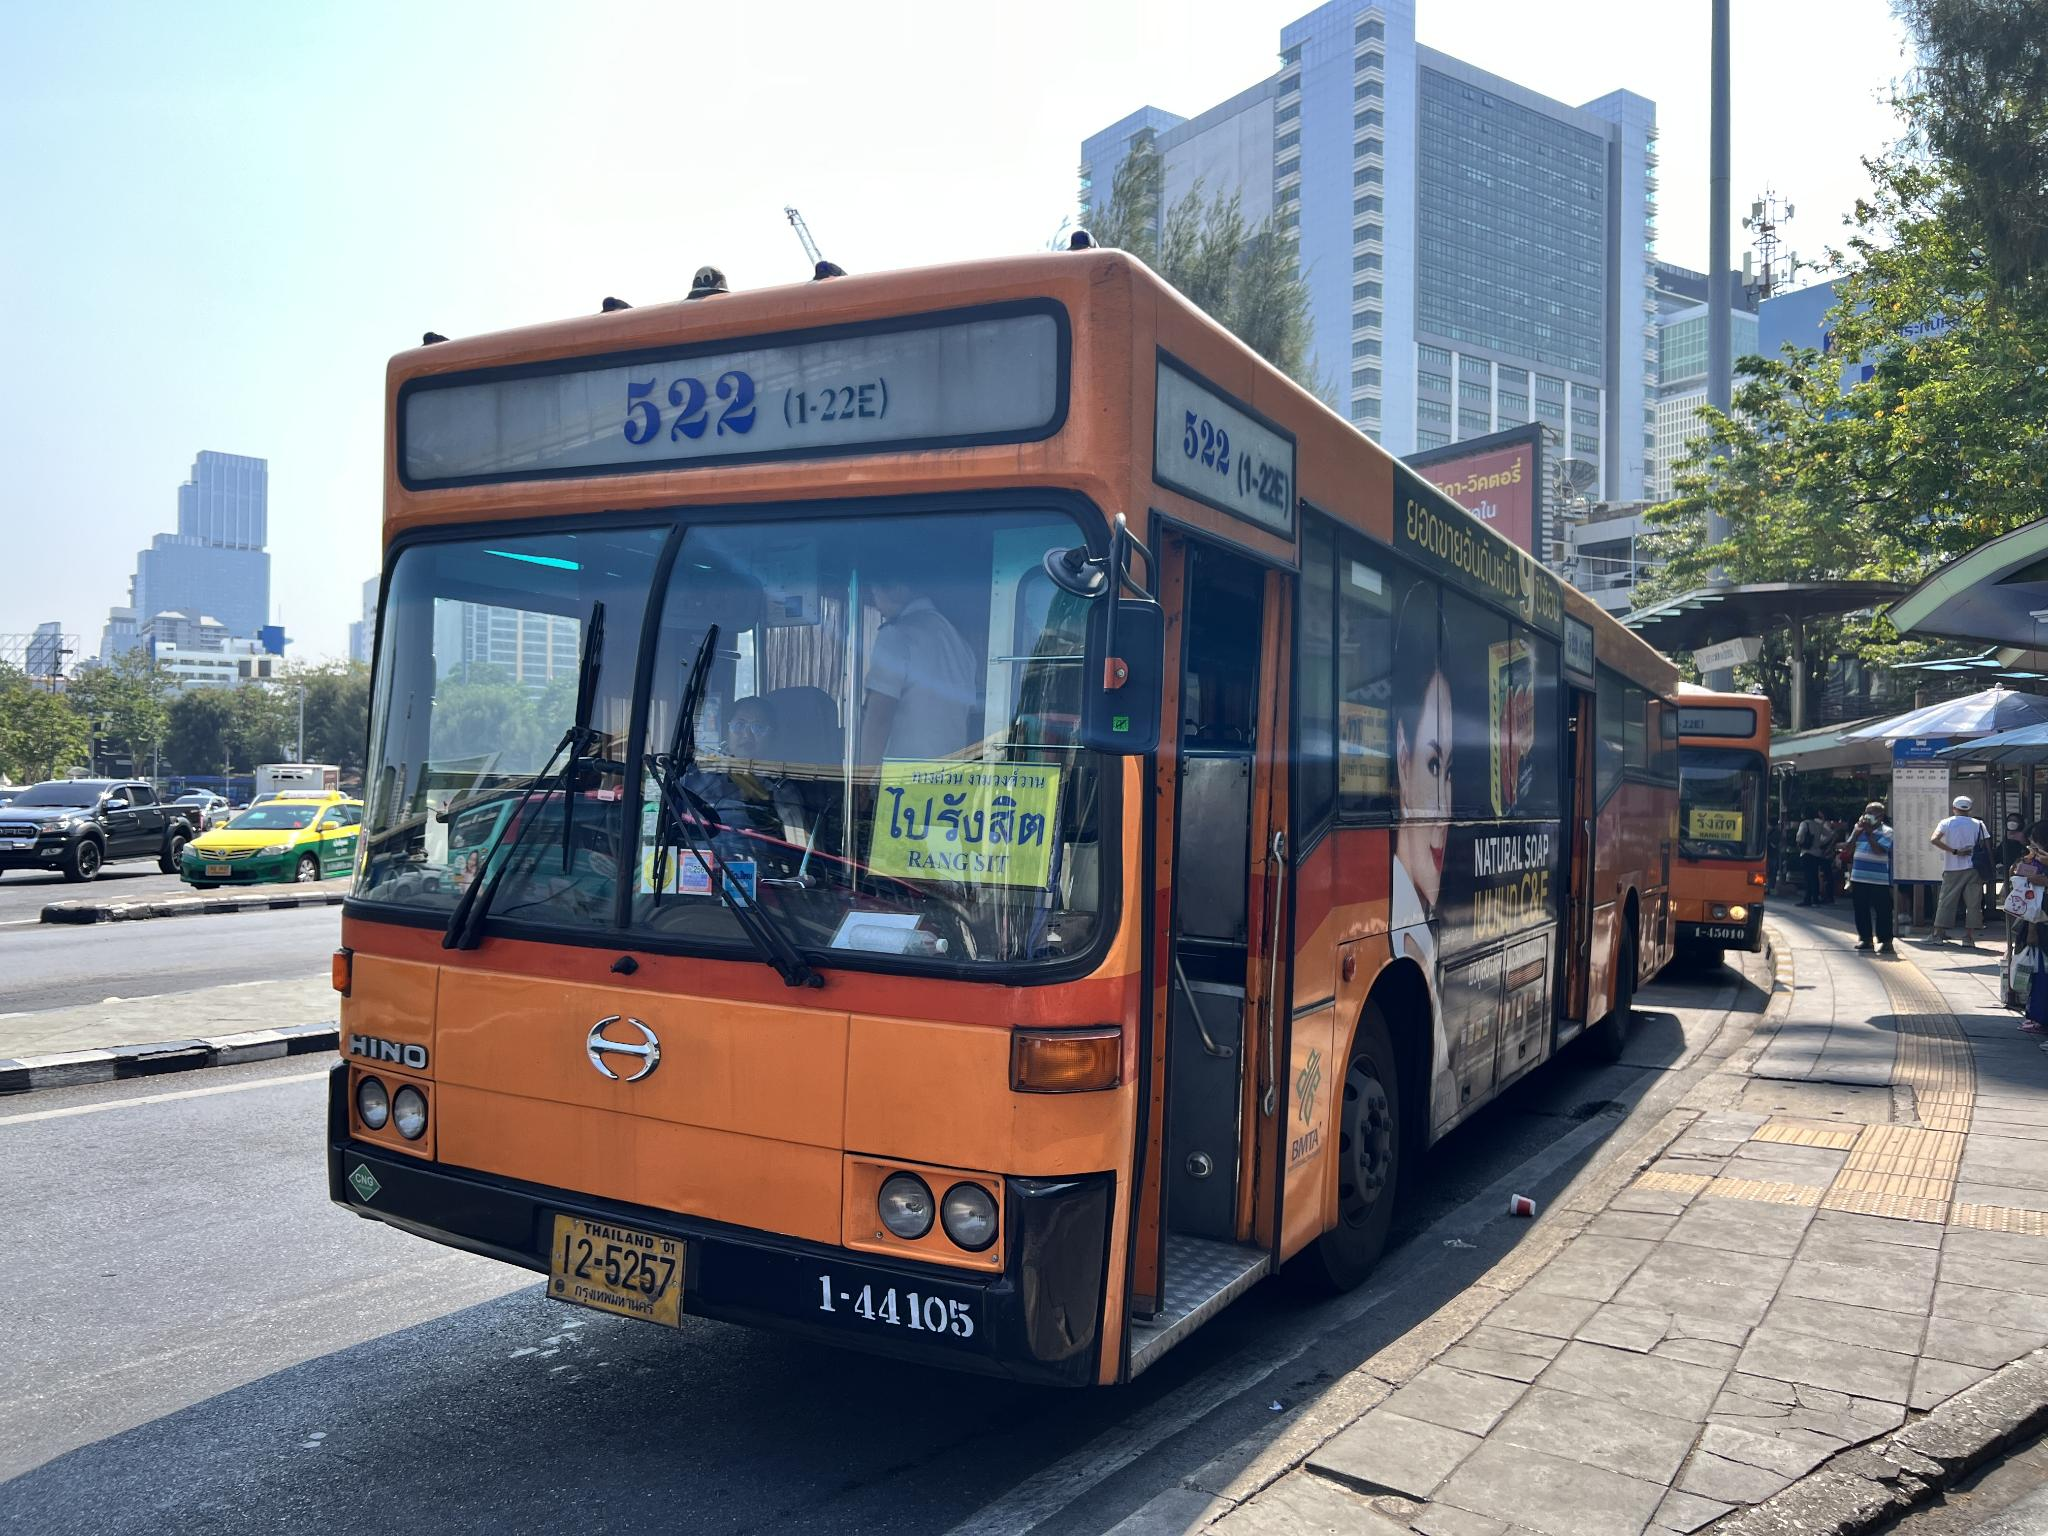BMTA-bus: (321, 252, 1679, 1396), (1653, 662, 1780, 1012)
Bus Line Number: (605, 363, 898, 463)
Bus Side Number: (805, 1257, 990, 1342)
Destination Sign: (868, 757, 1058, 887)
